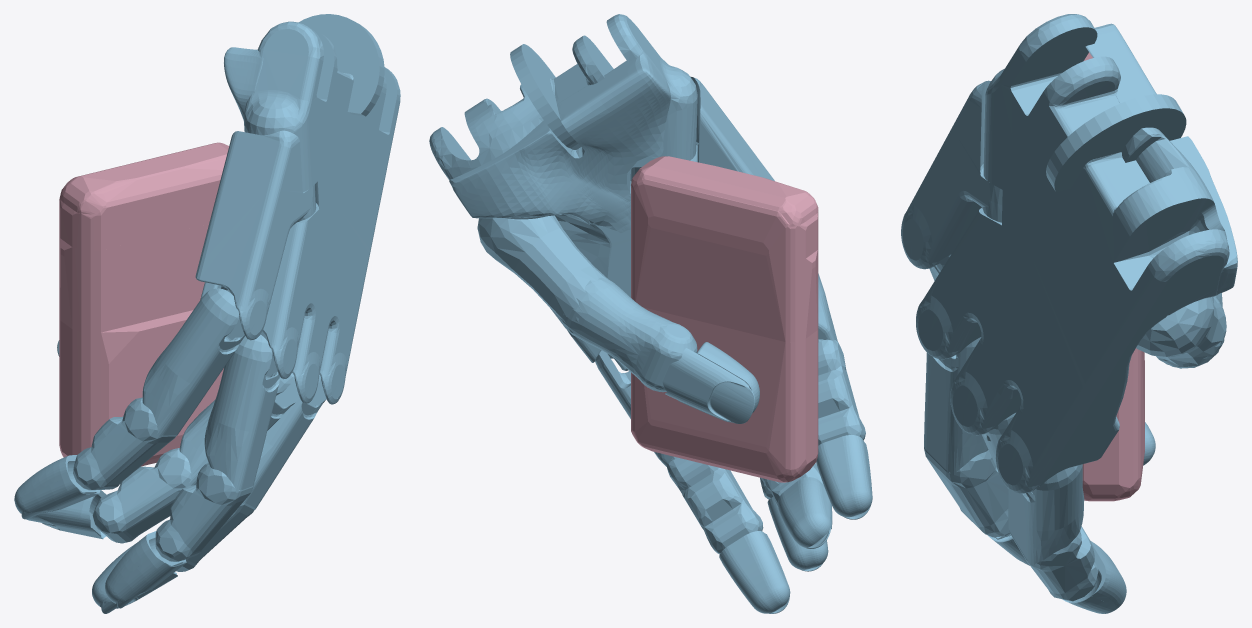
3 renders of one model, left to right at view 1: azimuth 30°, elevation 25°; view 2: azimuth 150°, elevation 25°; view 3: azimuth 270°, elevation 25°, orthographic. The views are drawn at different scales.
Parts seen in each view (by area): view 1: hand_isaac_q, world; view 2: hand_isaac_q, world; view 3: hand_isaac_q, world.
Boxes of the visible parts, x1,y1,x2,y2 form: hand_isaac_q: (14,14,400,613); world: (59,142,229,466); hand_isaac_q: (429,14,872,613); world: (631,156,818,482); hand_isaac_q: (901,14,1237,613); world: (1082,52,1144,501).
Bounding box in the file's own units: 0.1552 × 0.2004 × 0.0876.
